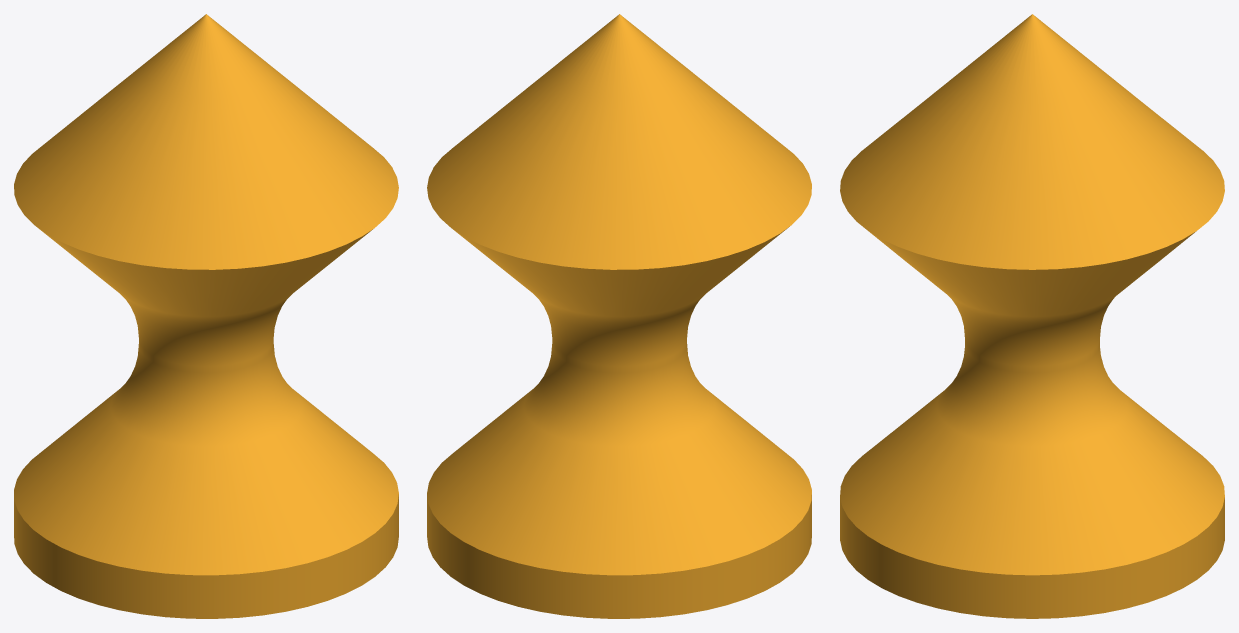
File: Fate Game Piece V3 Hunyadi.glb
3 renders of one model, left to right at view 1: azimuth 30°, elevation 25°; view 2: azimuth 150°, elevation 25°; view 3: azimuth 270°, elevation 25°, orthographic.
Parts seen in each view (by area): view 1: Solid1; view 2: Solid1; view 3: Solid1.
Part boxes in pixels (x1,y1,x2,y2): Solid1: (14, 14, 398, 618); Solid1: (427, 14, 811, 618); Solid1: (840, 14, 1224, 618).
Bounding box in the file's own units: 0.0254 × 0.0381 × 0.0254.
